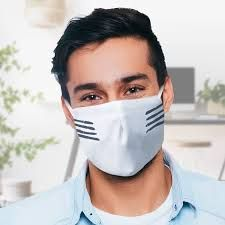with-mask: (51, 36, 187, 184)
